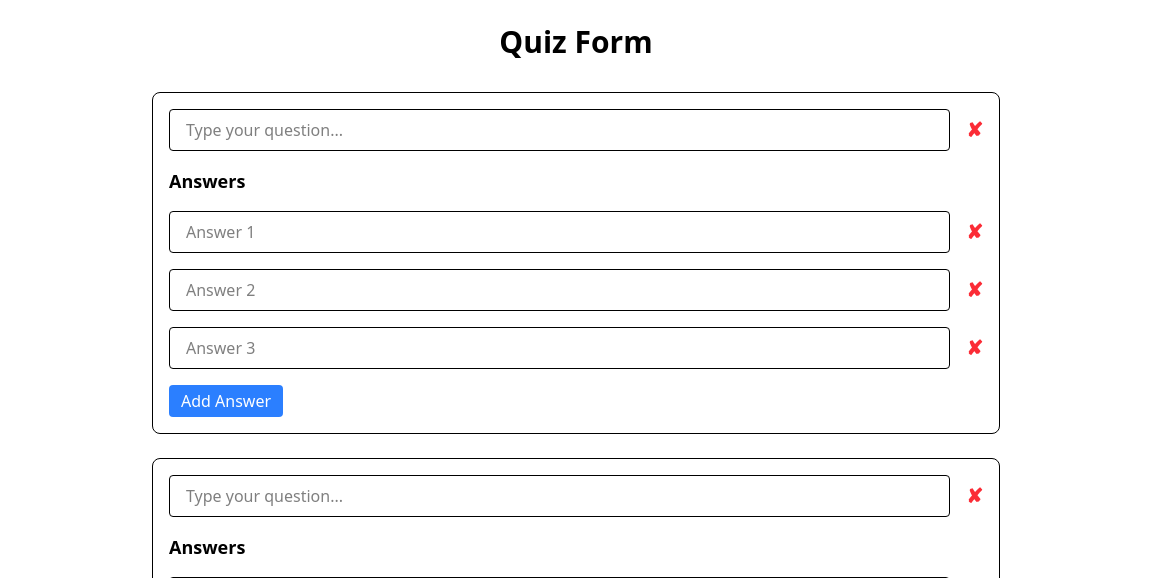
it: Quiz Form E2E › Error Messages › Question Field Error Messages › should show minimum characters error if question length is less
Type "Q" into the 1st field with placeholder "Type your question...". click: (560, 130)
box: [169,109,950,151]
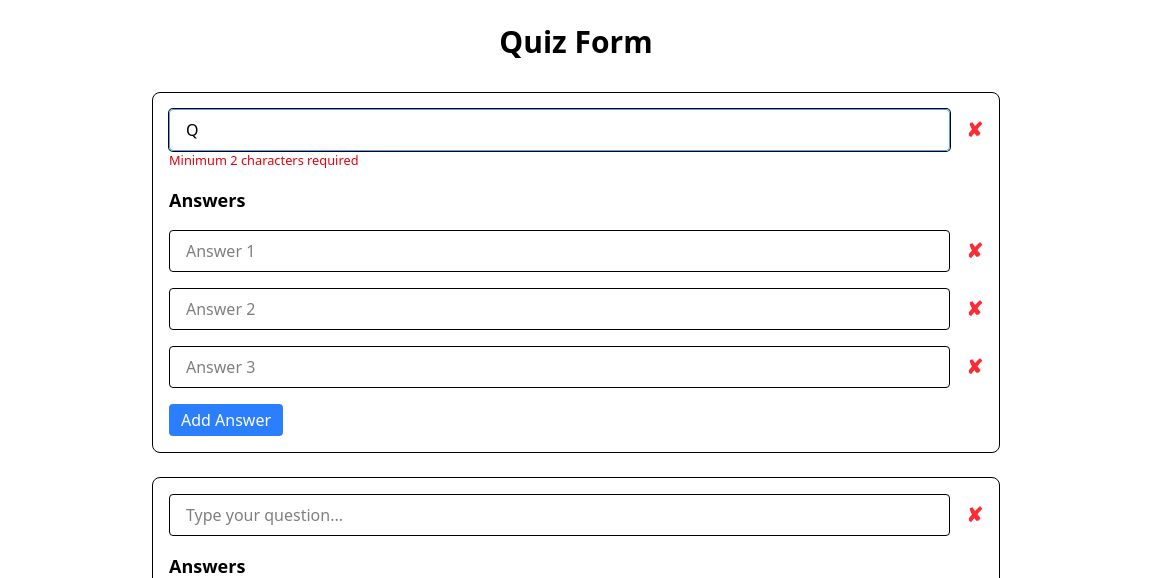
Result: the text "Minimum 2 characters required" is shown at [169,151,358,169]
